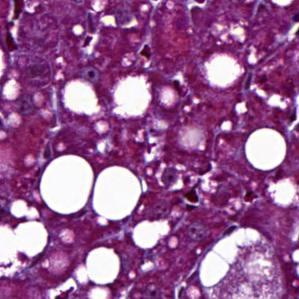inflammation: (175, 165, 218, 207), (3, 1, 27, 52), (75, 29, 102, 54)
